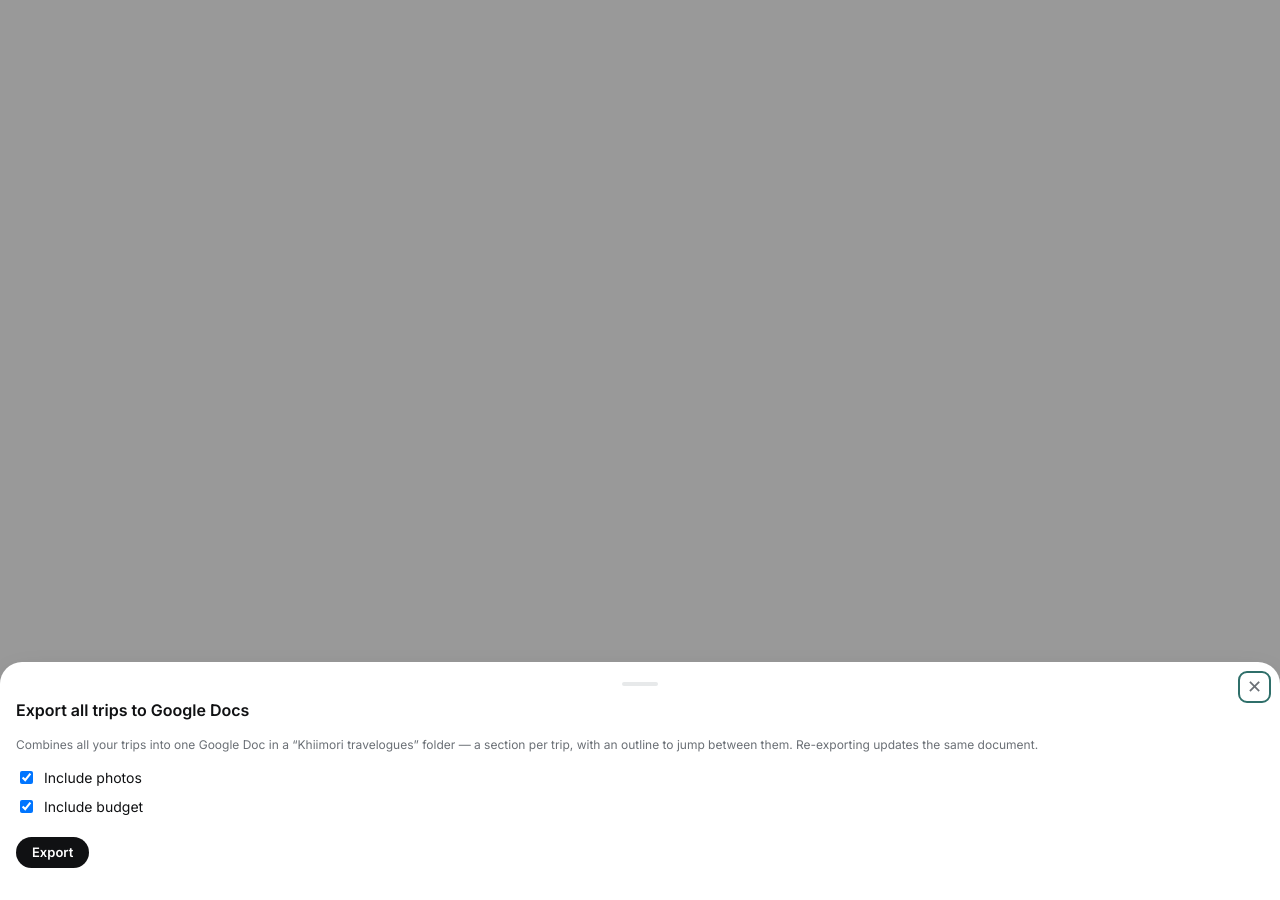
Test: ExportDialog › all-trips mode surfaces the "no trips" case
Click the button "Export": [53, 852] box left=16, top=837, right=89, bottom=868
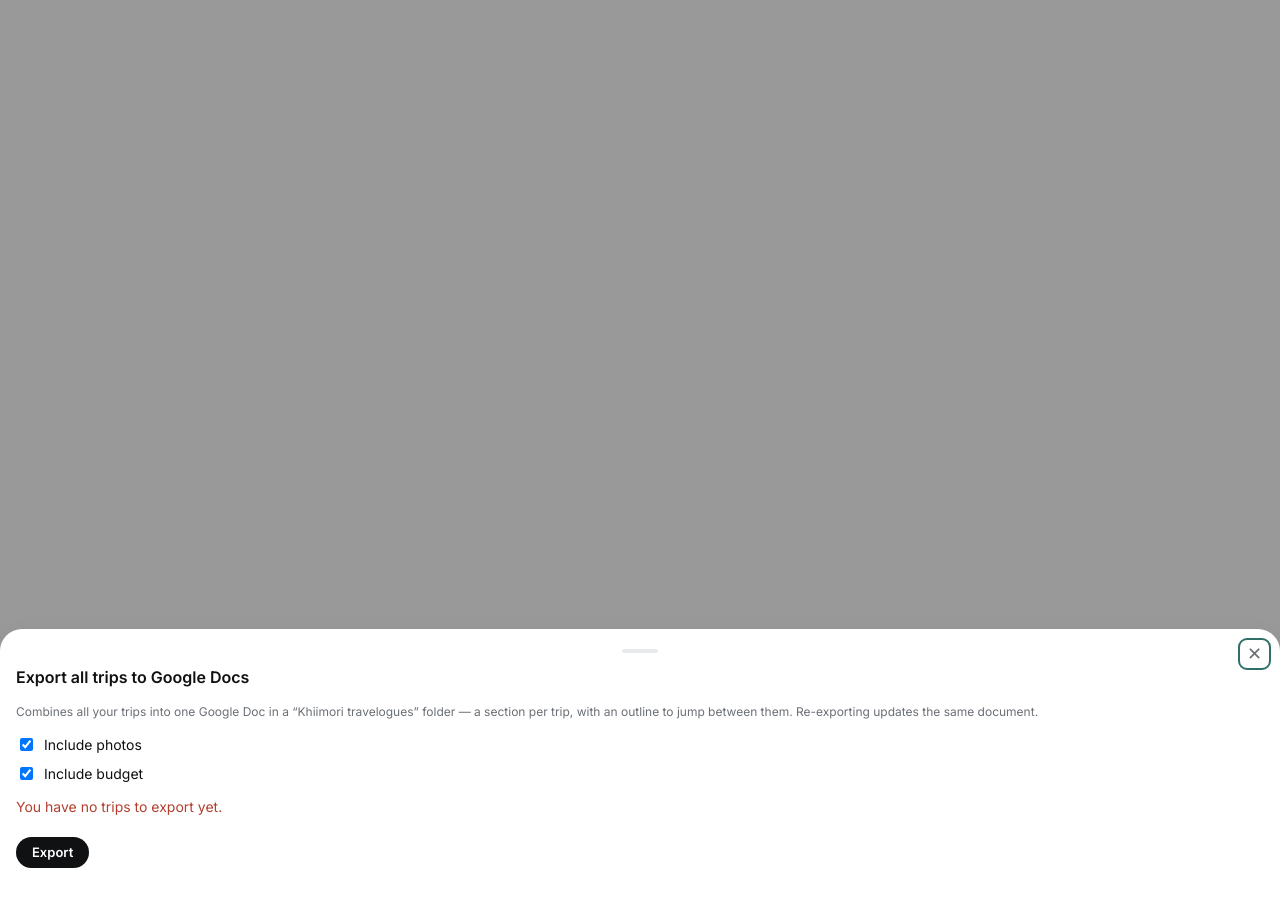
Result: the text "You have no trips to export yet." is shown at left=16, top=798, right=222, bottom=815
